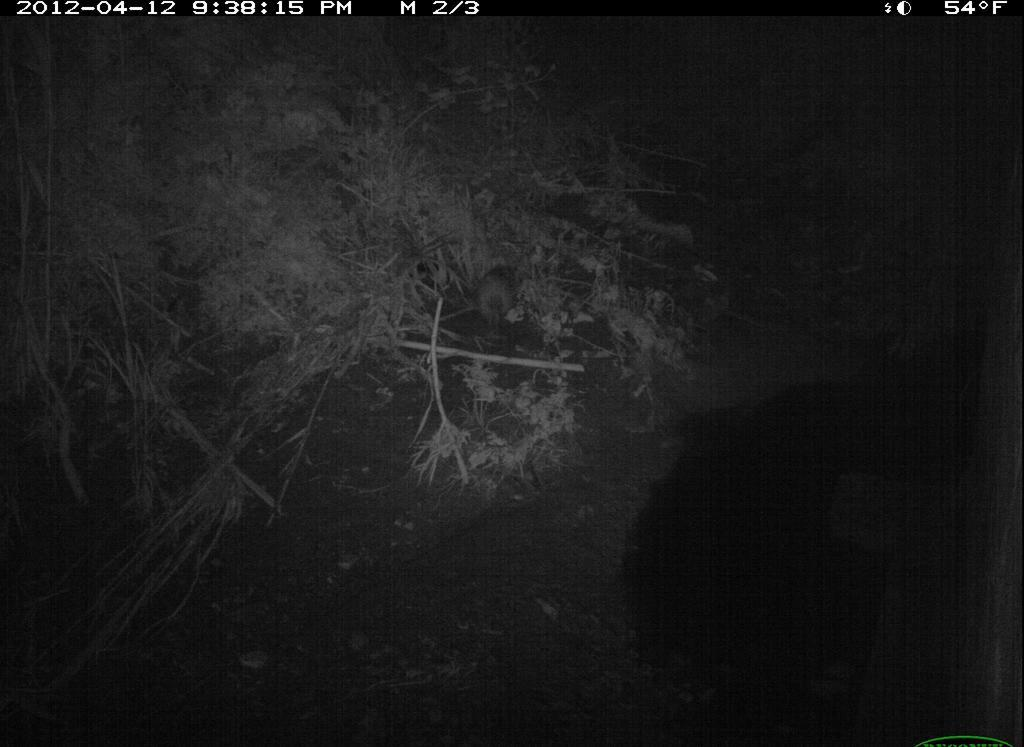opossum: (454, 259, 534, 340)
